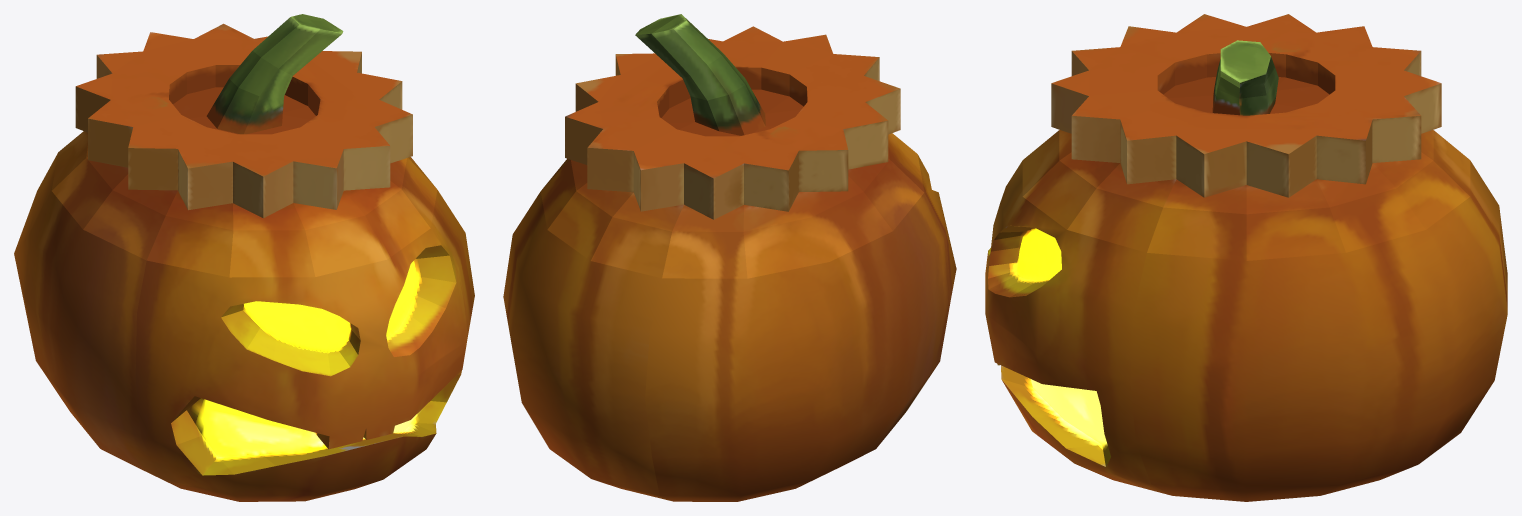
Rendered from model_pumpkin2.FBX.
3 renders of one model, left to right at view 1: azimuth 30°, elevation 25°; view 2: azimuth 150°, elevation 25°; view 3: azimuth 270°, elevation 25°, orthographic. The views are drawn at different scales.
Parts seen in each view (by area): view 1: model_pumpkin2; view 2: model_pumpkin2; view 3: model_pumpkin2.
Part boxes in pixels (bbox=[...]): model_pumpkin2: bbox=[14, 14, 474, 501]; model_pumpkin2: bbox=[503, 14, 956, 501]; model_pumpkin2: bbox=[985, 14, 1507, 501].
Size of the model in its own units: 42.71 by 47.2 by 48.92.
